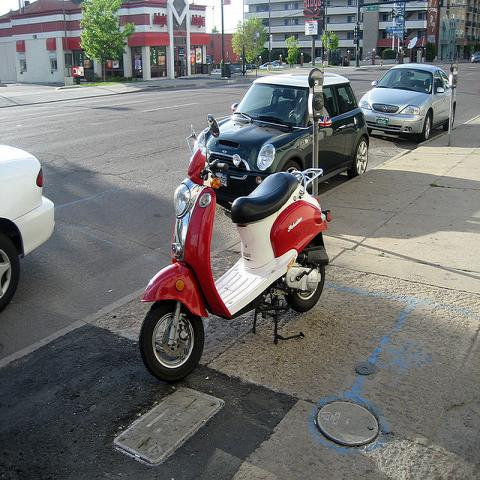car: (197, 67, 368, 210), (1, 139, 54, 315), (358, 62, 450, 143), (332, 56, 350, 66), (259, 62, 284, 69), (471, 50, 480, 63), (309, 57, 322, 65)
motorcycle: (139, 118, 333, 387)
